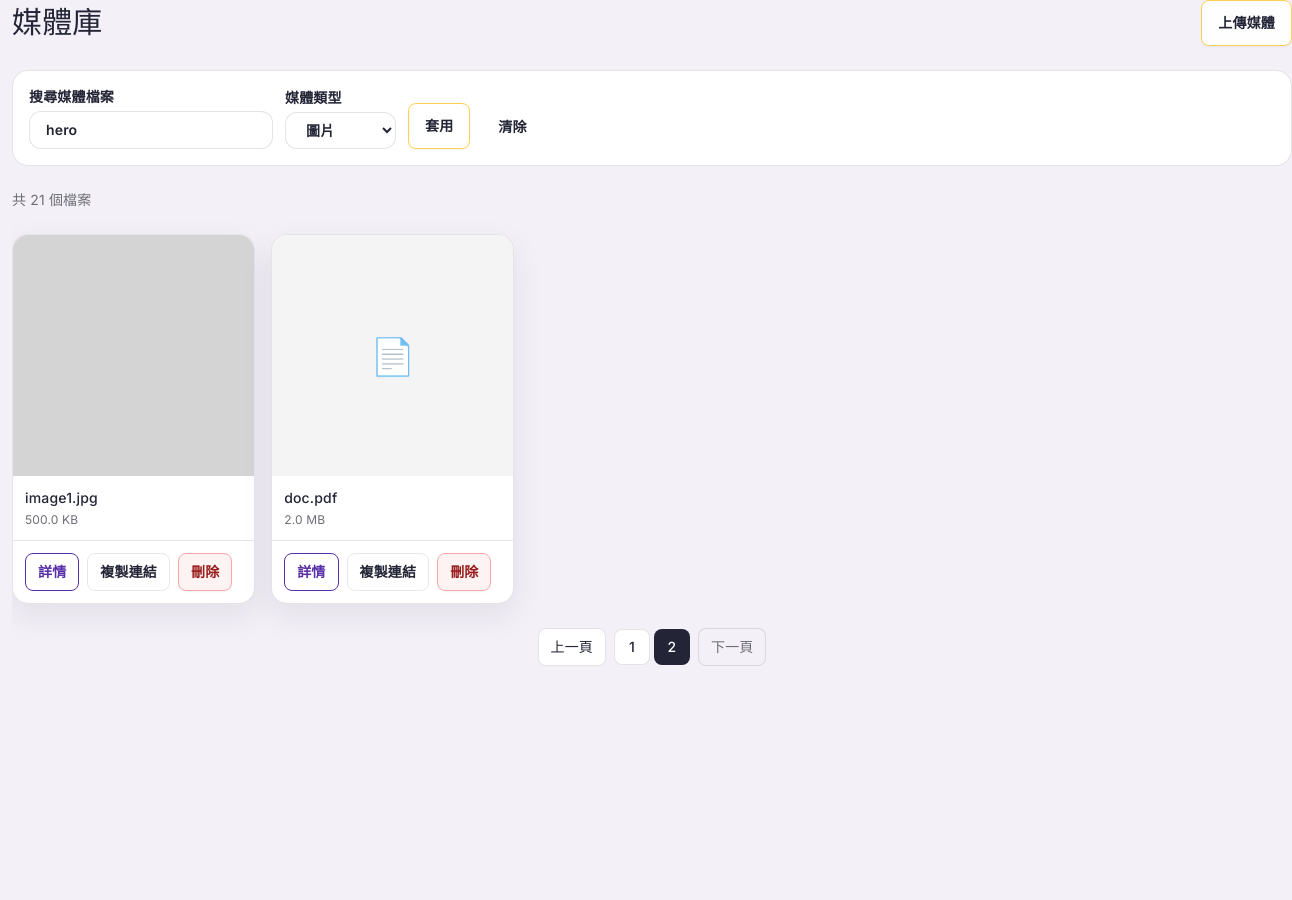
MediaLibraryClient › 顯示檔案詳情
Click the button with aria-label "查看詳情".
click(52, 572)  # box top-left (25, 553), bottom-right (79, 591)
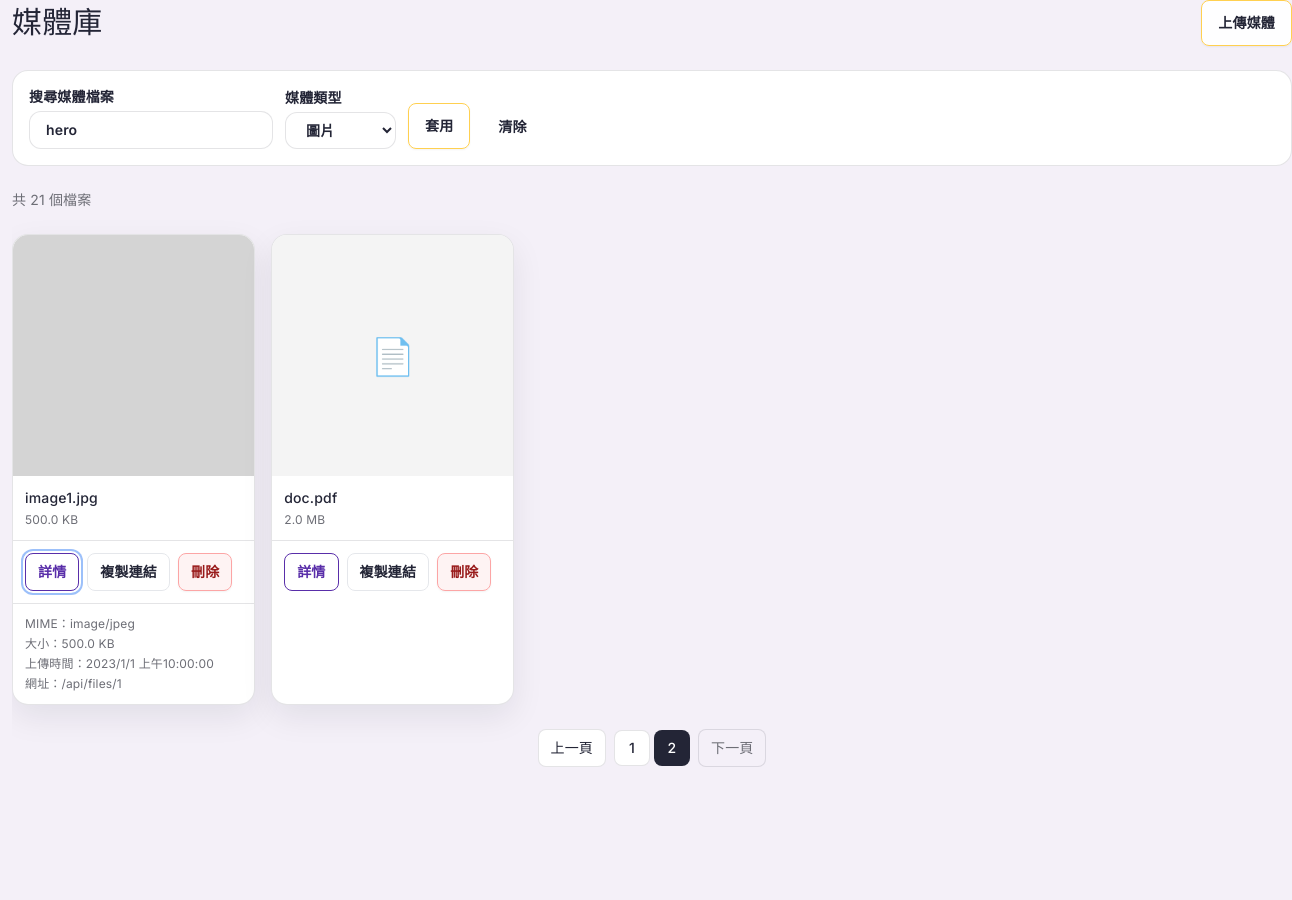
Expected: the element named "image1.jpg 詳情" shows "image/jpeg", top-left (70, 616), bottom-right (135, 631)
Expected: the element named "image1.jpg 詳情" shows "/api/files/1", top-left (62, 676), bottom-right (122, 691)
